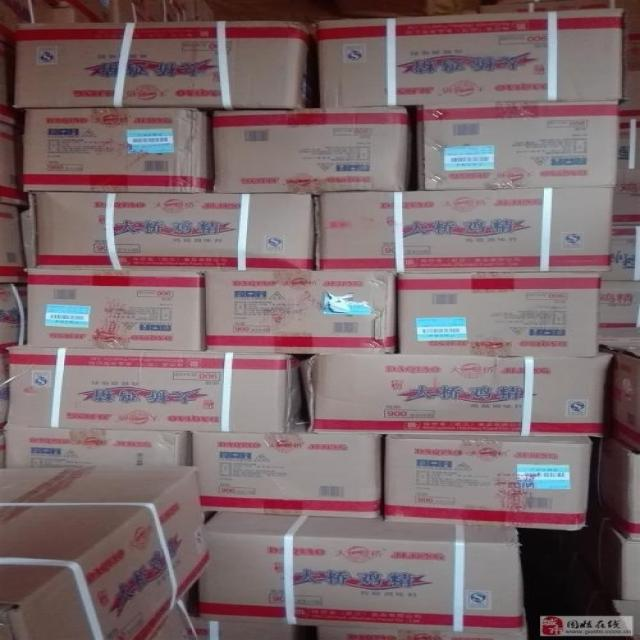box: (198, 510, 525, 626), (0, 468, 218, 638), (314, 8, 623, 106), (3, 1, 229, 125), (16, 22, 318, 109), (312, 188, 614, 271), (5, 345, 295, 431), (298, 355, 607, 433), (29, 194, 313, 268), (382, 432, 592, 530), (210, 103, 425, 190), (419, 104, 620, 189), (398, 271, 602, 354), (191, 431, 385, 517), (22, 107, 214, 191), (204, 271, 397, 350), (22, 269, 204, 348), (3, 424, 194, 468), (193, 616, 527, 639), (587, 505, 639, 601), (595, 435, 639, 542), (598, 337, 639, 451), (611, 111, 639, 226), (392, 1, 639, 14), (599, 277, 639, 340), (0, 205, 30, 282), (598, 226, 639, 282), (619, 8, 639, 112), (0, 119, 25, 199), (0, 277, 29, 344), (149, 601, 196, 638)
